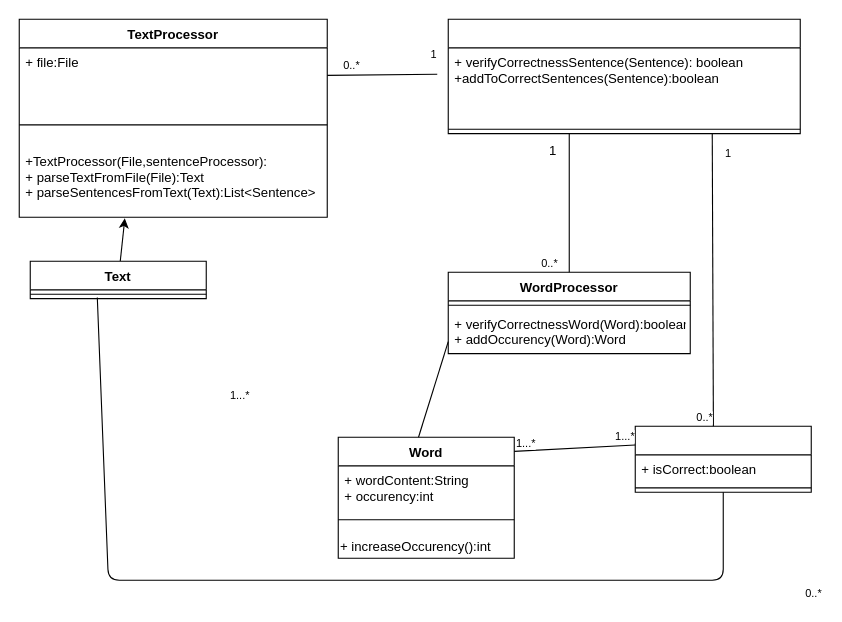
This 842x622 diagram has some shape labels left out. Here are the shapes that lost their labels. From the top down, the box of each, then its label:
(447, 18, 800, 134): SentenceProcessor
(634, 425, 811, 492): Sentence
